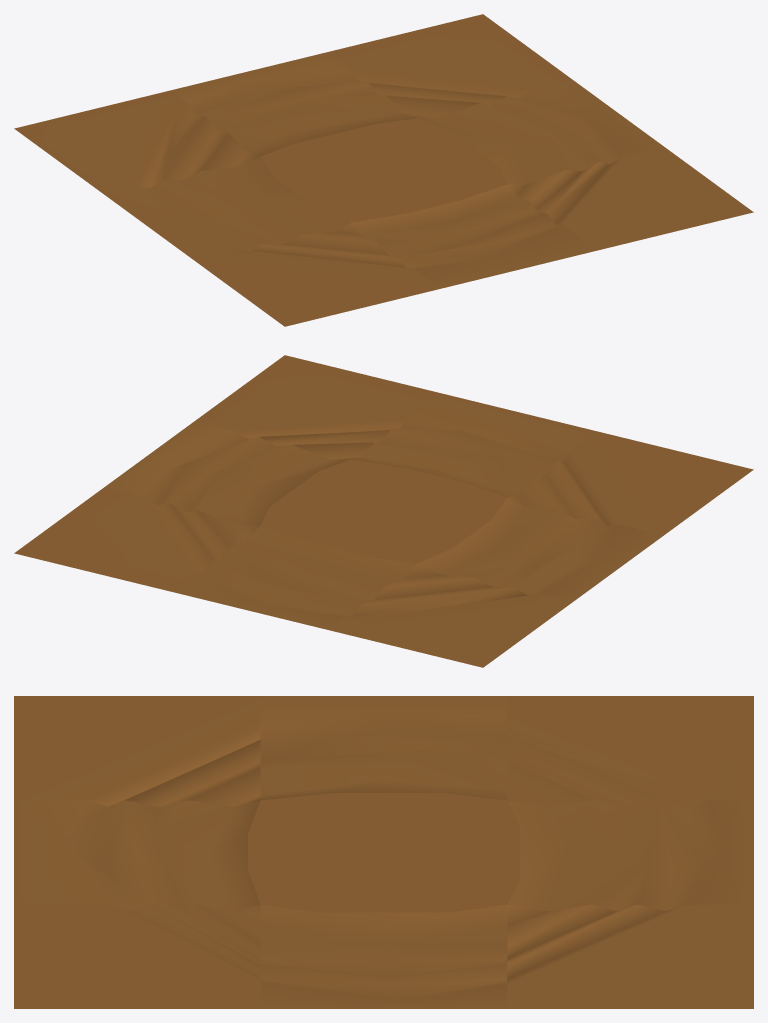
The model's file is SA_Env_DirtCircle2.gltf.
3 views of the same model, one above another, from view 1: azimuth 30°, elevation 25°; view 2: azimuth 150°, elevation 25°; view 3: azimuth 270°, elevation 25° (orthographic). The views are drawn at different scales.
Parts seen in each view (by area): view 1: SA_Env_DirtCircle2; view 2: SA_Env_DirtCircle2; view 3: SA_Env_DirtCircle2.
Boxes of the visible parts, box(x1,y1,x2,y2) form: SA_Env_DirtCircle2: box(14, 14, 753, 326); SA_Env_DirtCircle2: box(14, 355, 753, 667); SA_Env_DirtCircle2: box(14, 696, 753, 1008).
Size of the model in its own units: 45 by 0.4436 by 45.
1 material, 1 textured.
